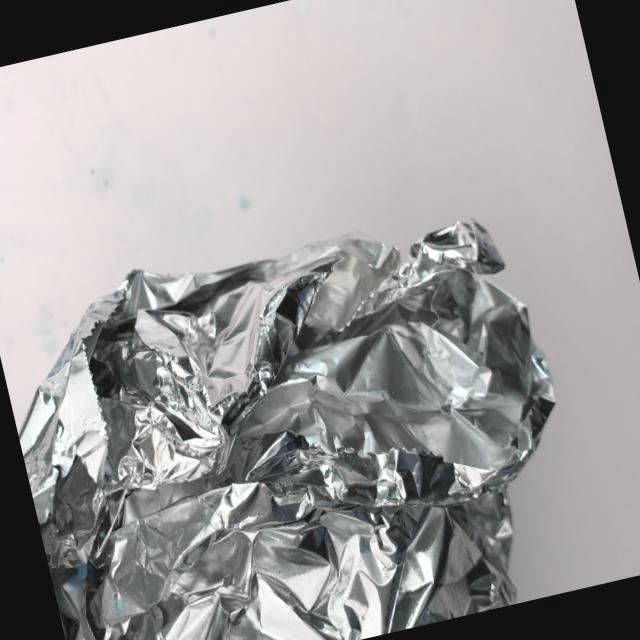metal: (0, 155, 614, 640)
